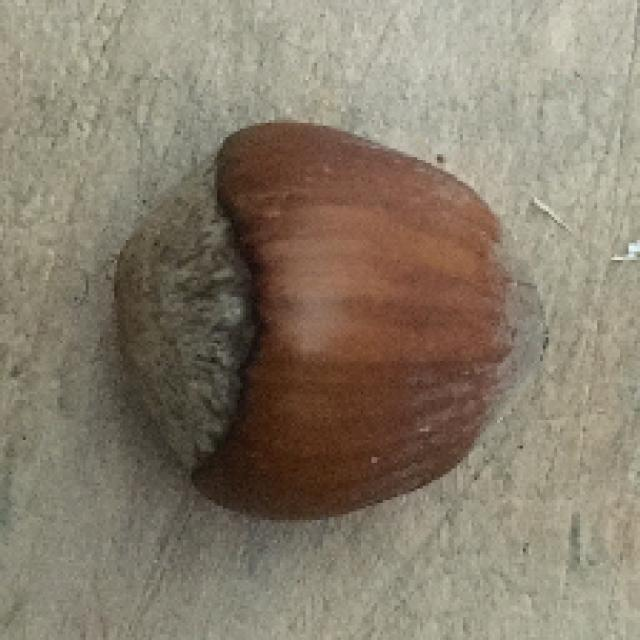damagedHazelnut: (97, 121, 542, 522)
